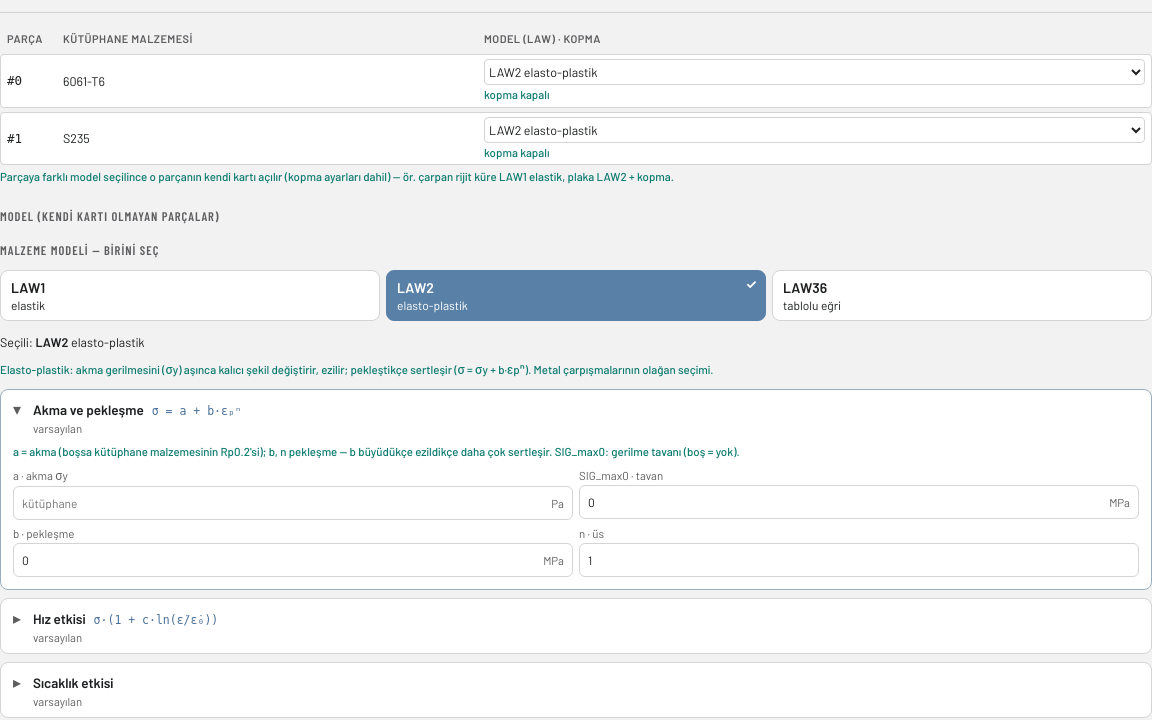
CrashMaterialSection · alttaki kartta model seçilince onay (kullanıcı 2026-10-13) › Hayır: değişiklik uygulanmaz
Click the button "LAW1 elastik" at (28, 288), box top-left (0, 270), bottom-right (380, 321)
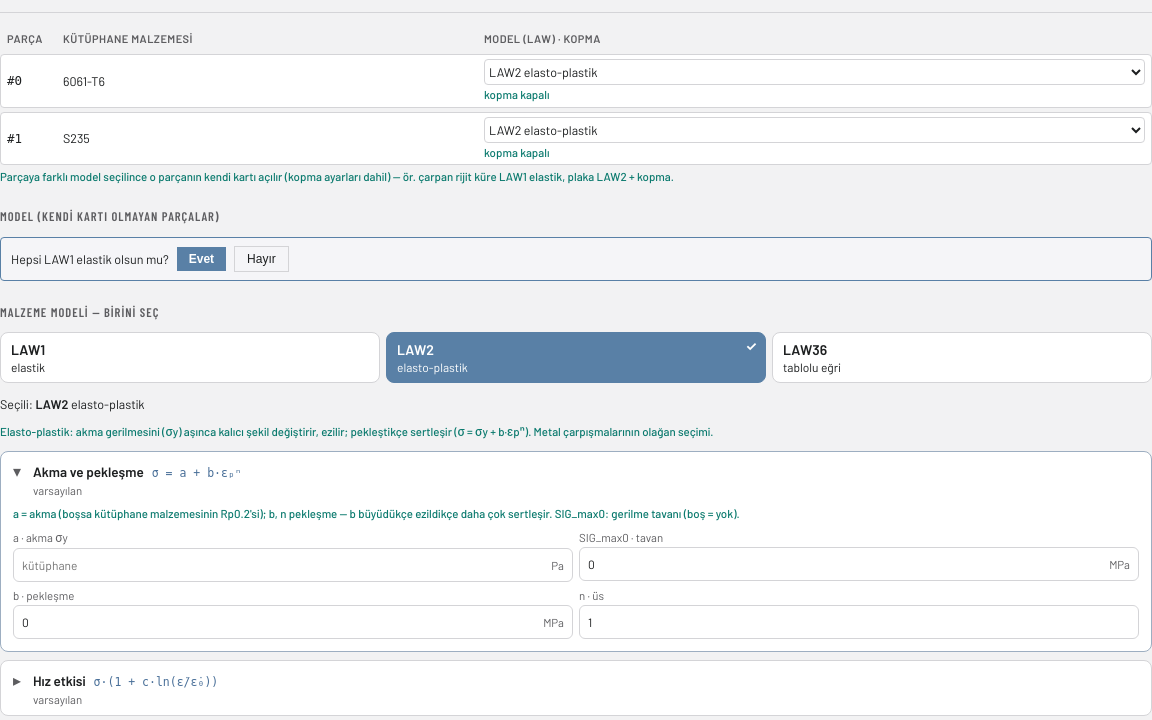
Click the button "Hayır" at (261, 259), box top-left (234, 246), bottom-right (289, 272)
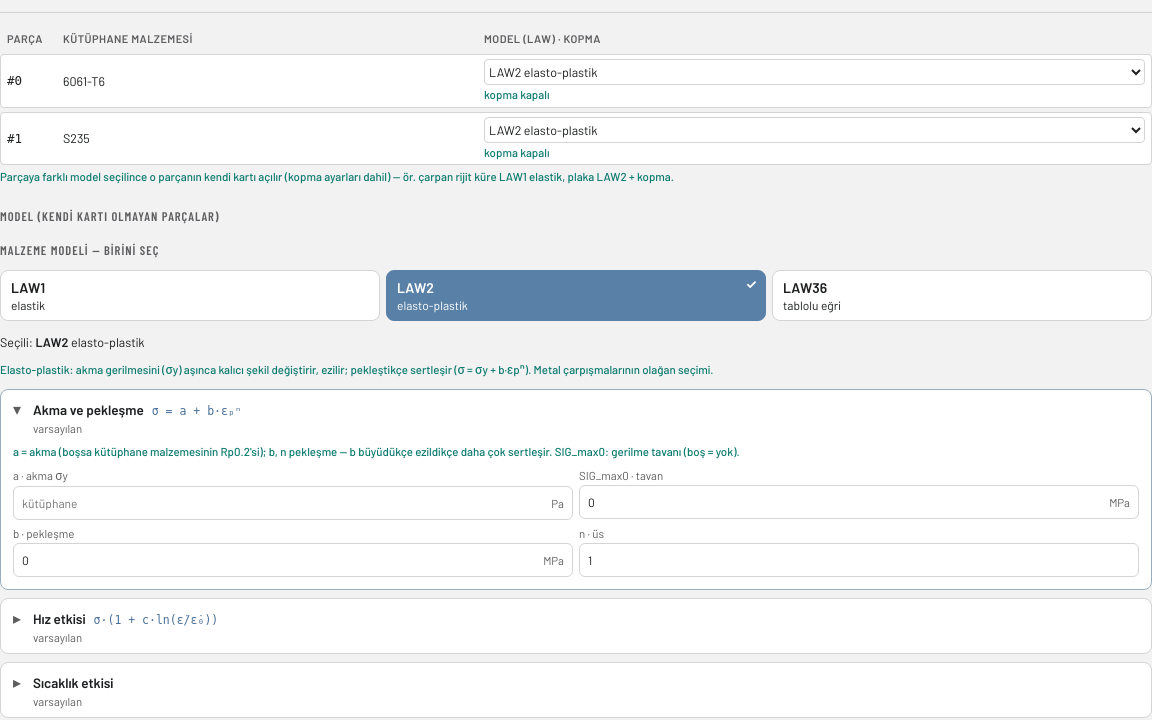
Expected: the dropdown named "Parça 0 modeli" shows "LAW2 elasto-plastik", top-left (484, 59), bottom-right (1145, 85)
Expected: the dialog is gone
